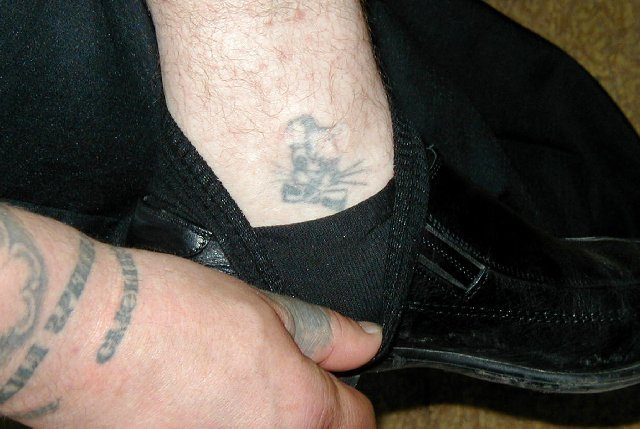tatu3_bukva: (1, 252, 136, 419)
tatu8_kot: (273, 109, 372, 217)
